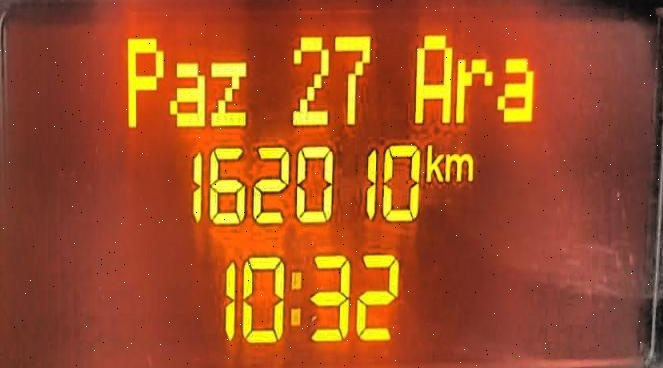0: (239, 253, 285, 348), (380, 140, 419, 225), (293, 143, 335, 221)
1: (221, 254, 237, 343), (190, 142, 206, 226), (362, 142, 377, 225)
2: (287, 26, 332, 130), (356, 248, 398, 342), (250, 139, 289, 224)
3: (310, 250, 353, 344)
6: (210, 141, 247, 226)
7: (331, 28, 376, 130)
X: (123, 32, 168, 128), (411, 31, 455, 126), (495, 50, 540, 128), (451, 48, 494, 125), (207, 56, 250, 128), (164, 58, 205, 126), (284, 263, 307, 330), (444, 149, 475, 187), (422, 140, 443, 186)
